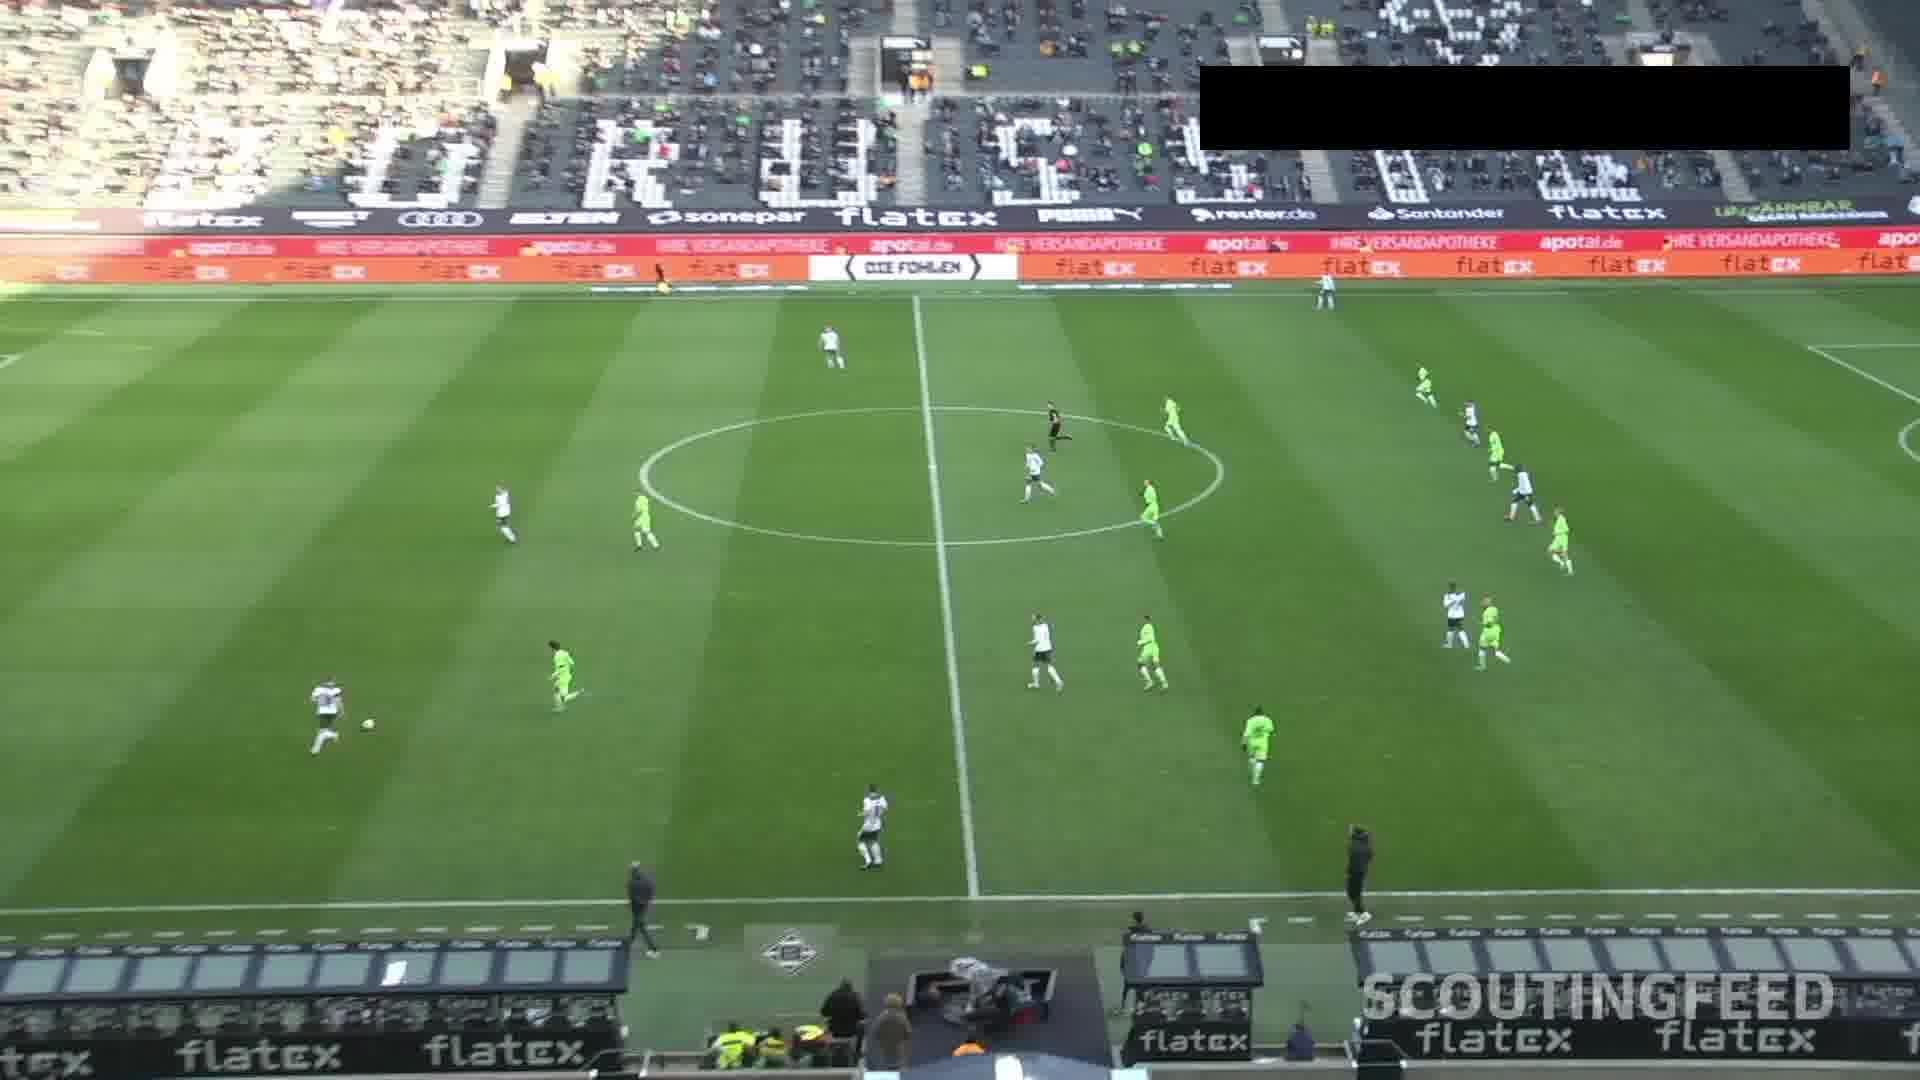football: (360, 717, 376, 731)
